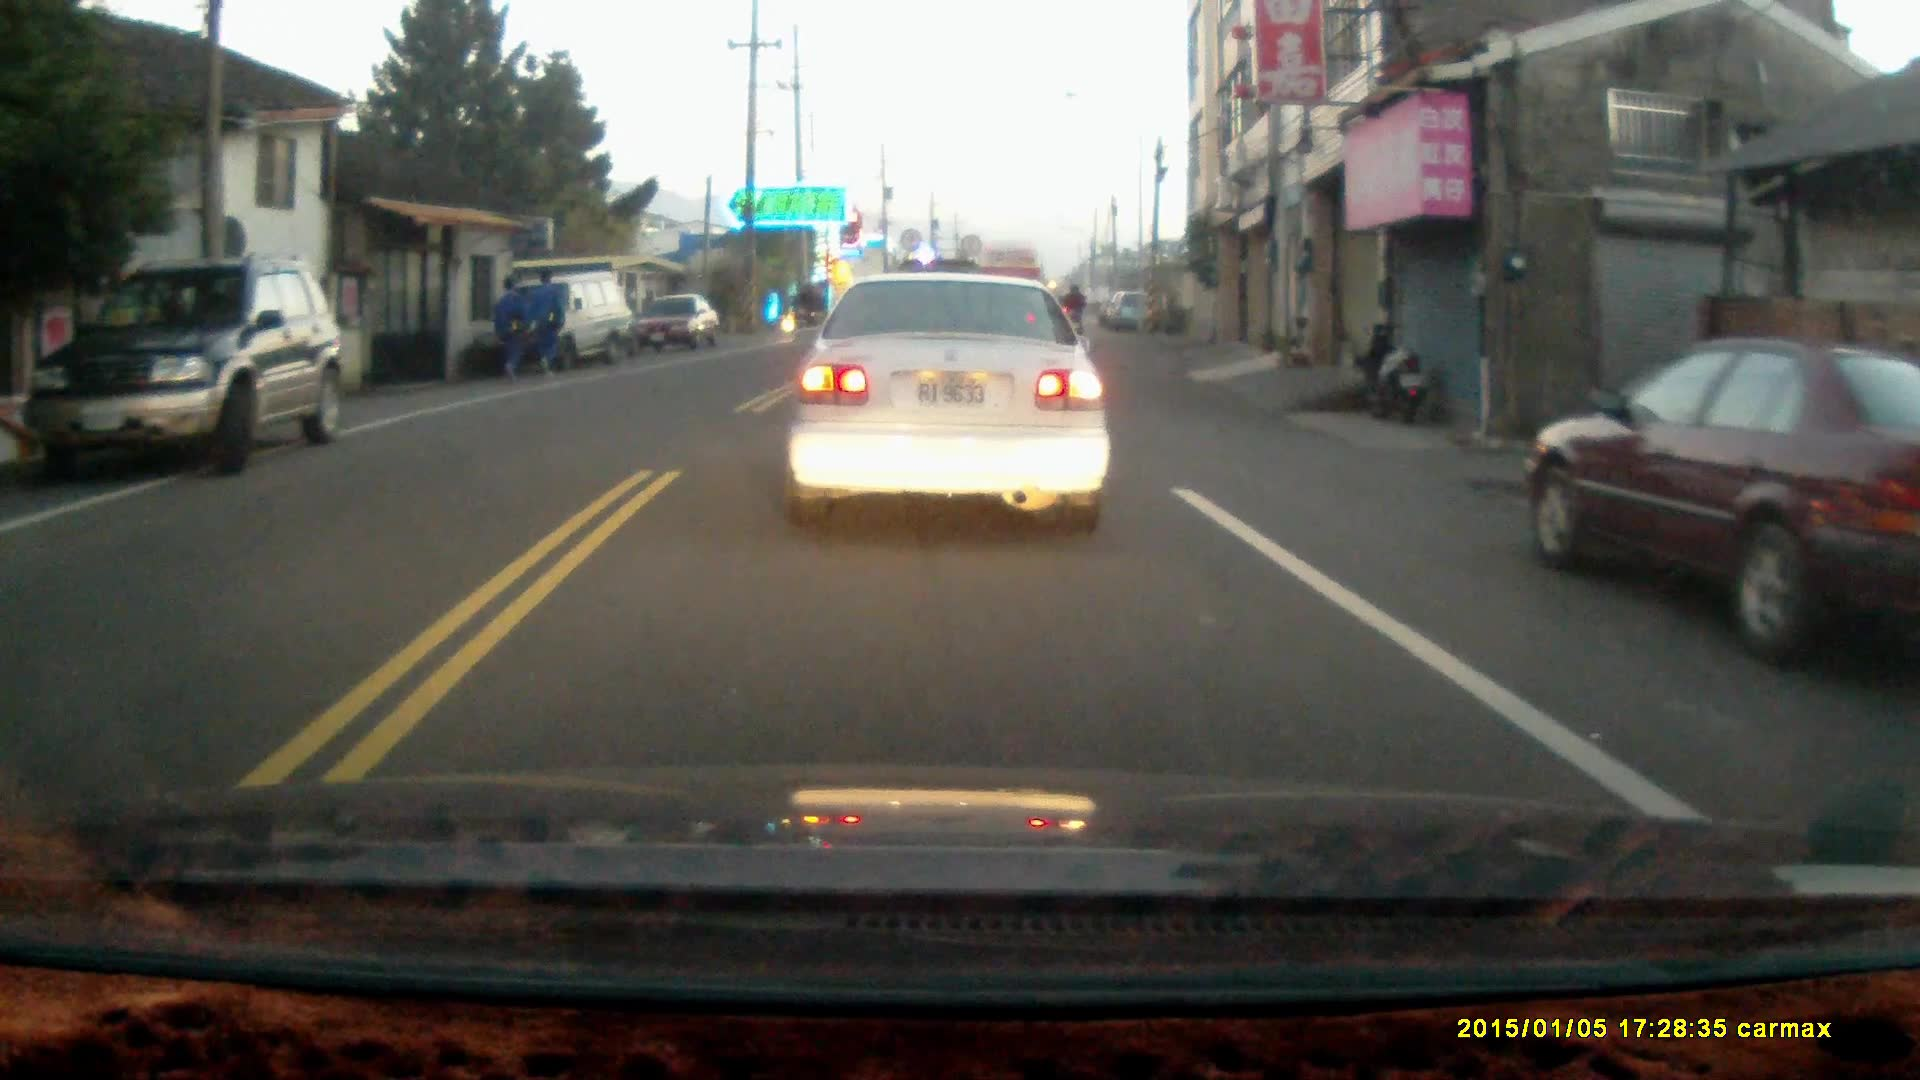pedestrian: (493, 272, 531, 388), (530, 262, 565, 377)
vehicle: (1539, 337, 1920, 666), (785, 266, 1114, 536), (32, 264, 346, 478), (508, 270, 645, 365), (626, 297, 722, 361)
